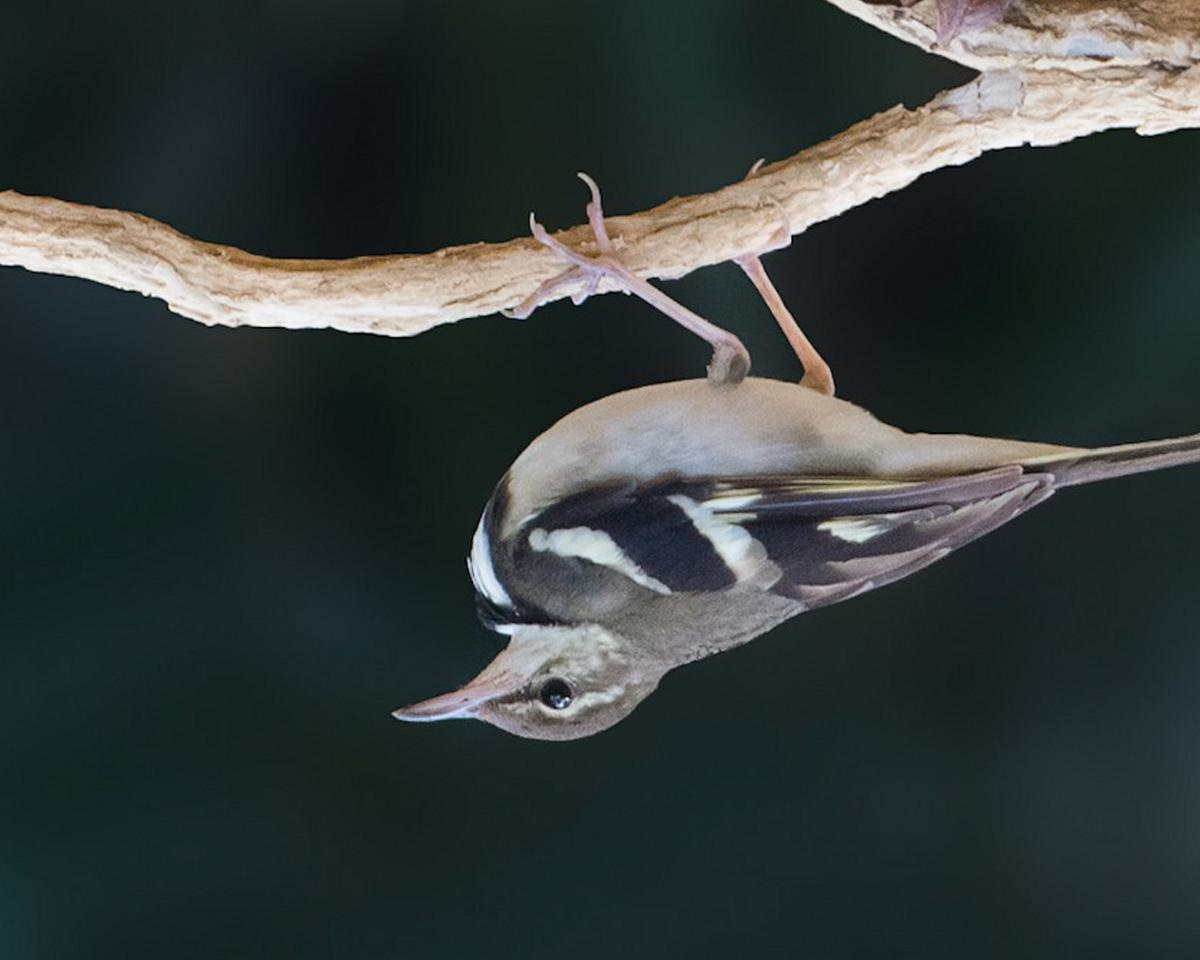wagtail: (389, 214, 1182, 795)
